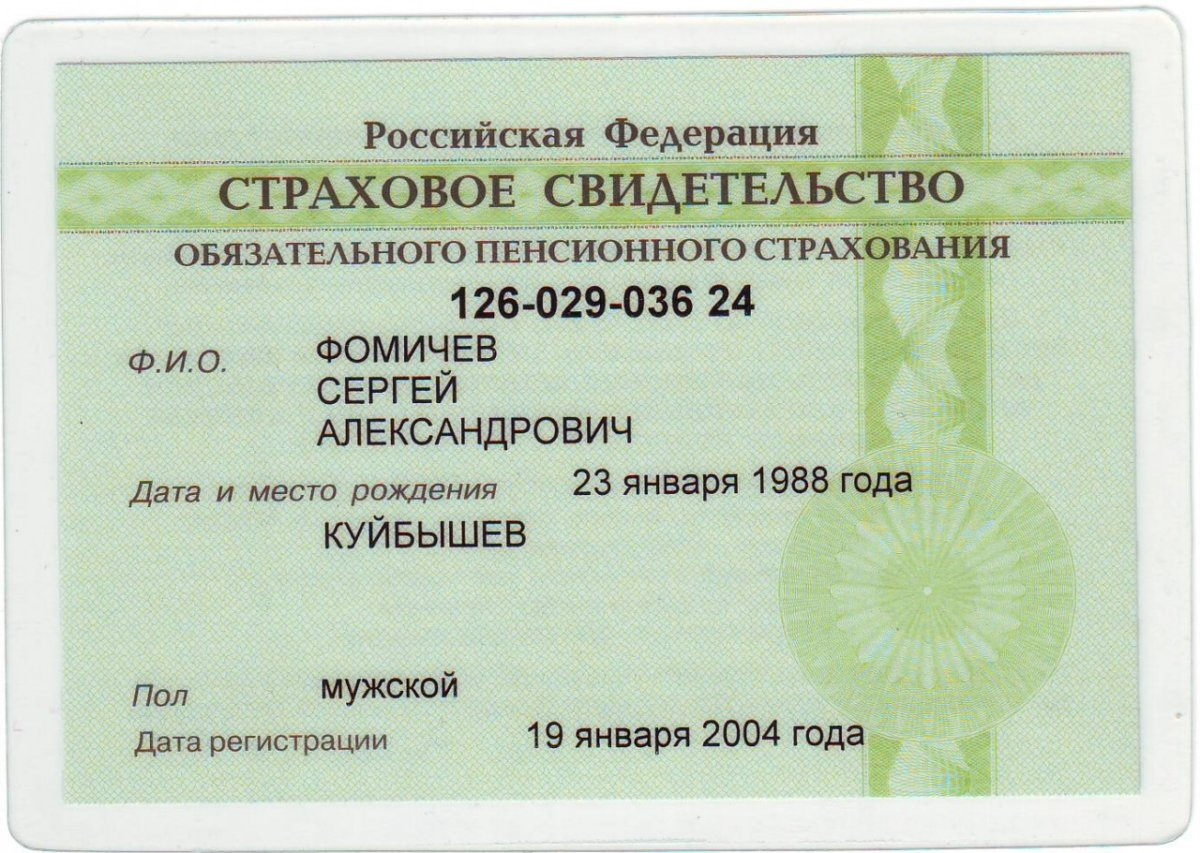text: (441, 272, 765, 328), (566, 459, 925, 502), (521, 711, 875, 754), (310, 413, 634, 448), (308, 512, 537, 557), (308, 330, 503, 368), (306, 665, 465, 709), (303, 369, 473, 405)
